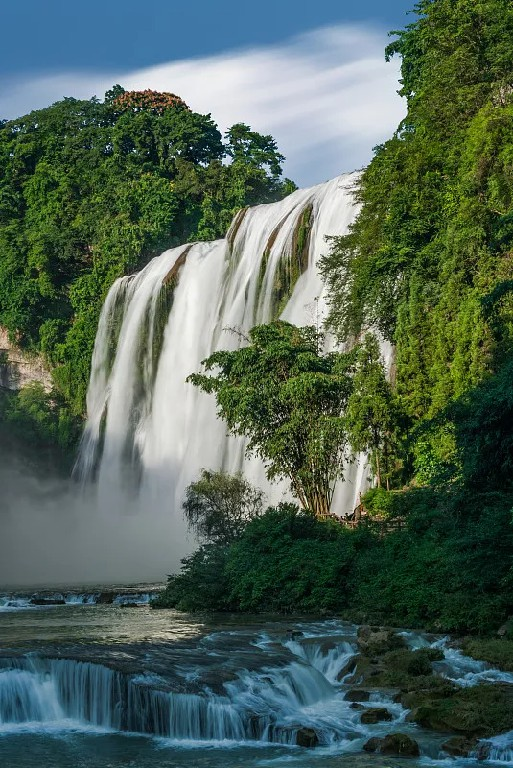Huangguoshu: (75, 171, 394, 511)
